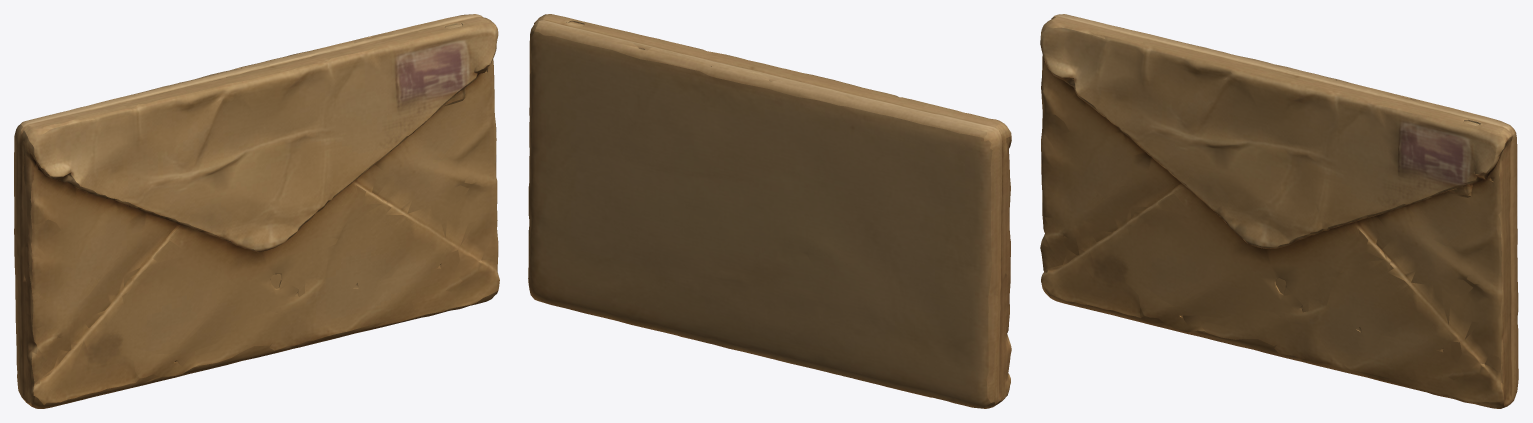
Rendered from letter.glb.
The picture shows the model from 3 angles, left to right: view 1: azimuth 30°, elevation 25°; view 2: azimuth 150°, elevation 25°; view 3: azimuth 330°, elevation 25°; orthographic projection.
Parts seen in each view (by area): view 1: world; view 2: world; view 3: world.
Boxes of the visible parts, <box> form: world: <box>14,14,499,408</box>; world: <box>528,14,1011,408</box>; world: <box>1040,14,1518,408</box>.
Bounding box in the file's own units: 1 × 0.5766 × 0.1154.
Materials: 1 (1 with a texture image).
